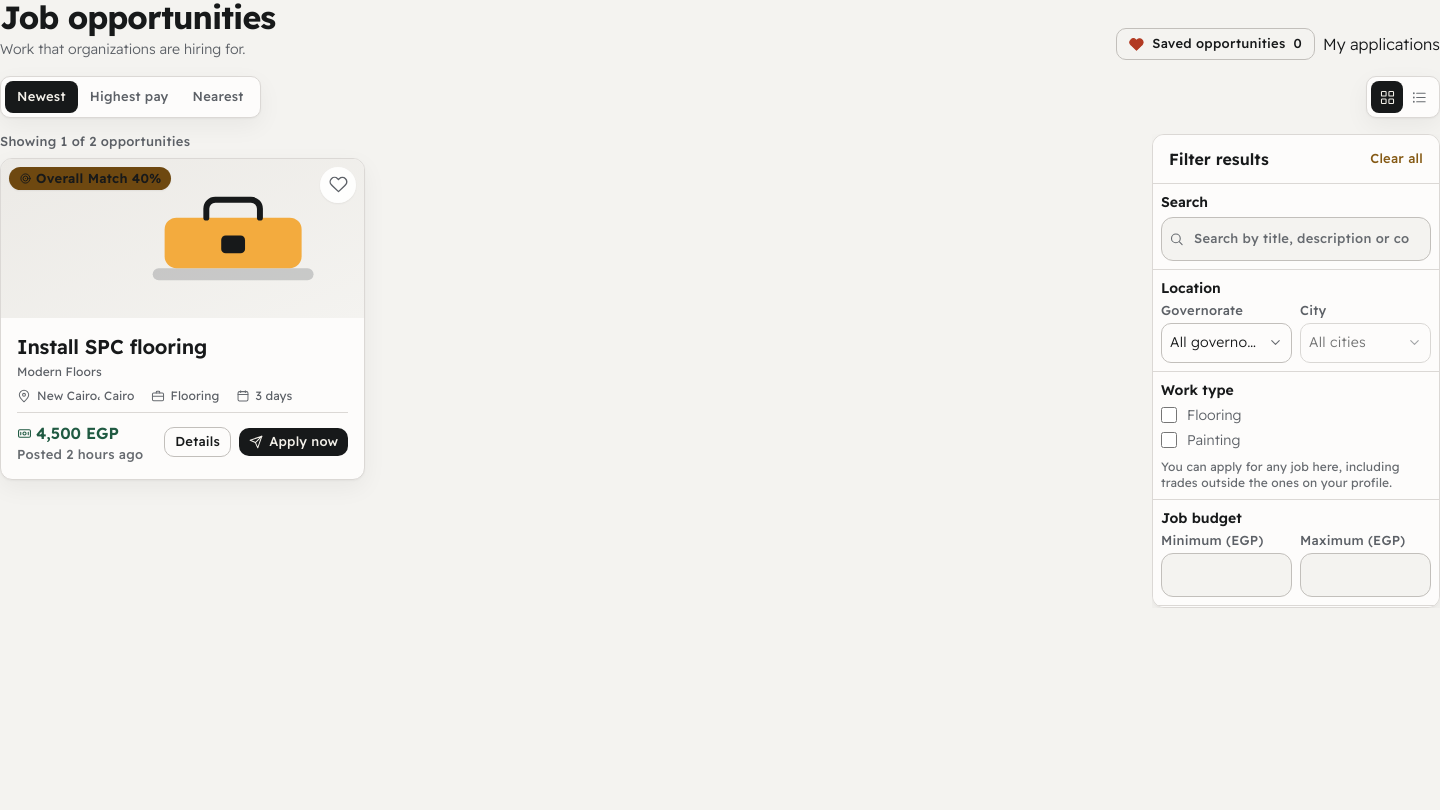
Test: production Jobs board — one approved presentation, only real capabilities › Overall Match — the canonical database breakdown, drawn and never recomputed › 40% is named 'Partial match' in its breakdown
The width and height of the screenshot is (1440, 810).
Step 1. Click the button with test id "match-badge" → {"x": 90, "y": 179}, box x1=9 y1=167 x2=171 y2=190
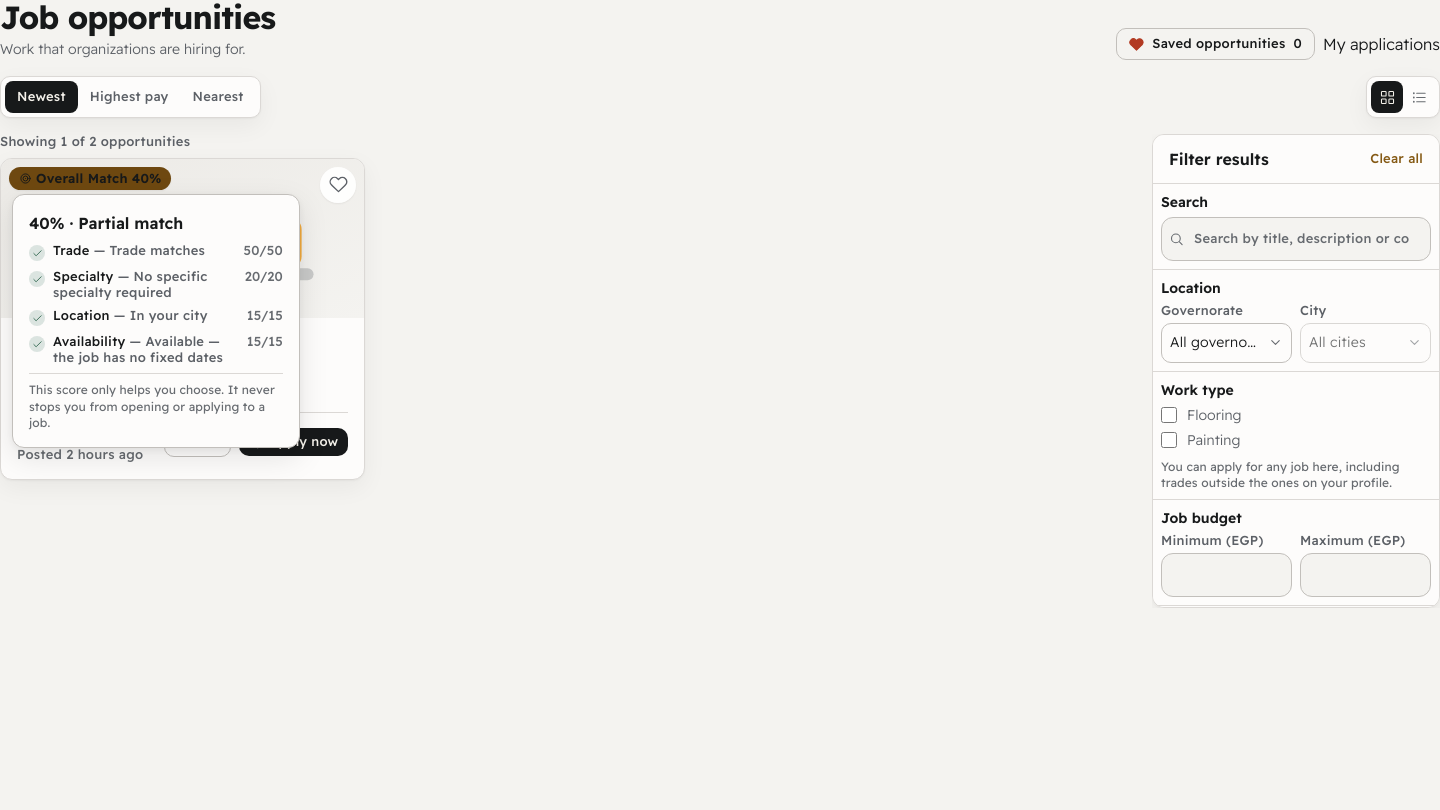
Now the text "40% · Partial match" is shown, box x1=29 y1=213 x2=183 y2=233
